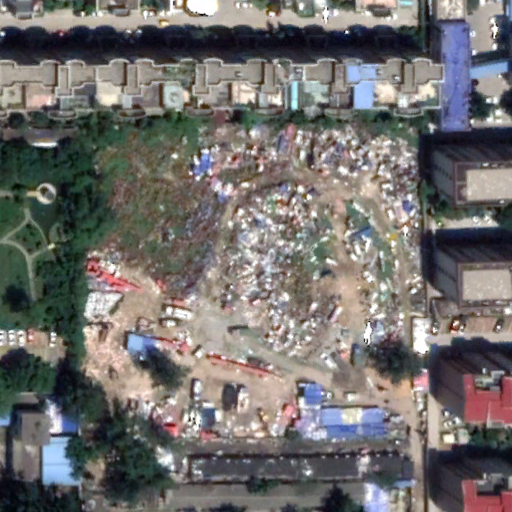msw: (184, 119, 424, 360)
